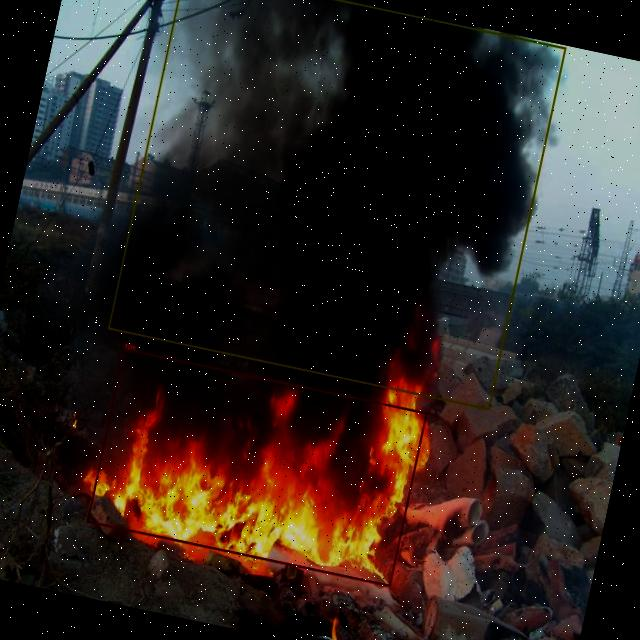fire: (86, 347, 426, 586)
smoke: (107, 0, 565, 409)
